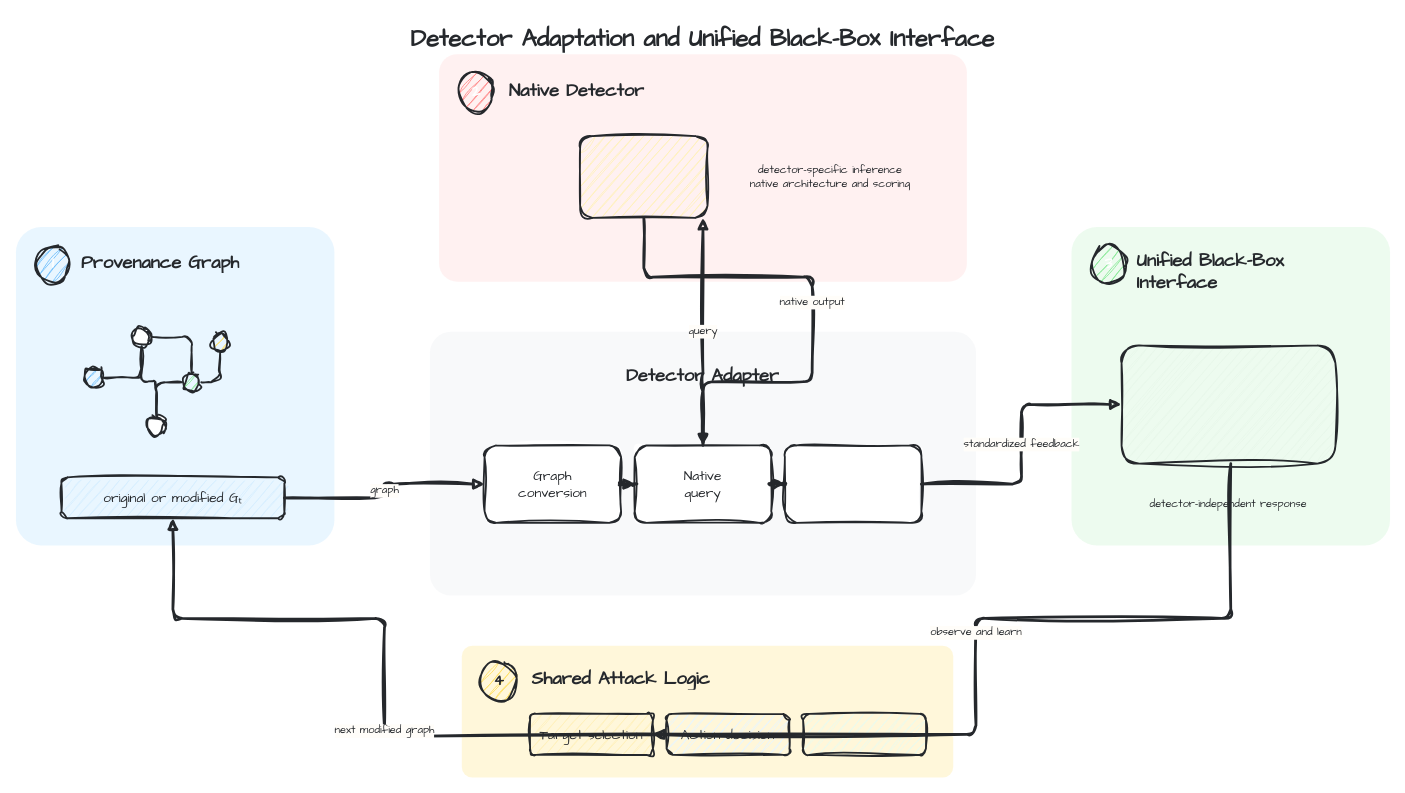
Image size: 1405x793. Some labels were removed from this diagram. Each missing label, with the centre of its shape:
"anomaly scores alerted nodes detection threshold" belongs at [1228,404].
"f(·)" belongs at [643,176].
"Output mapping" belongs at [853,483].
"Reward & update" belongs at [864,734].
